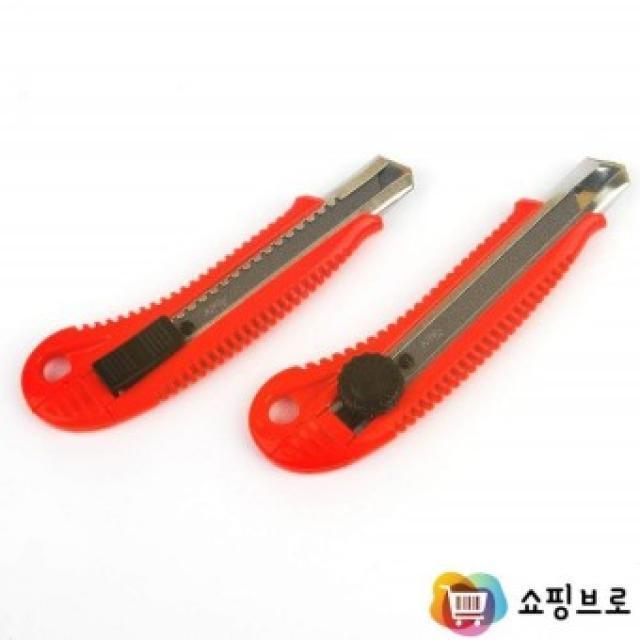cutter: (11, 122, 454, 438), (232, 148, 628, 480)
